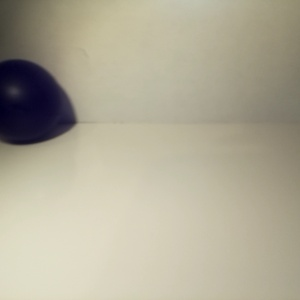alive_ball: (1, 110, 18, 182)
dead_ball: (1, 61, 36, 138)
